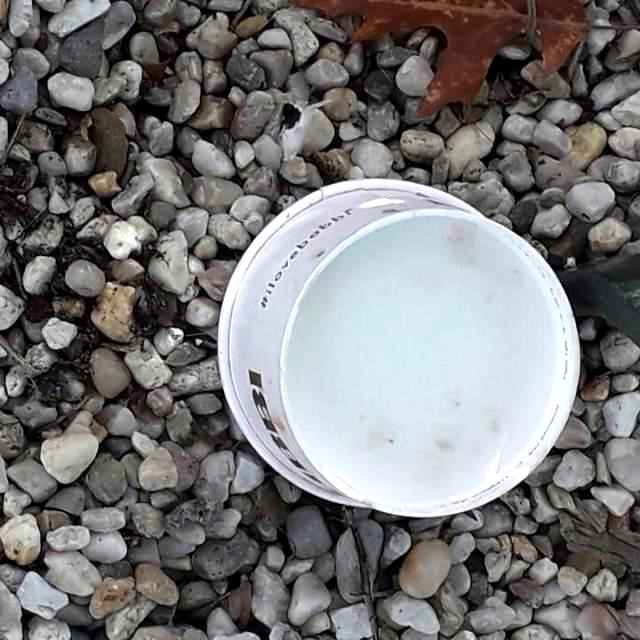Paper: (214, 175, 584, 519)
